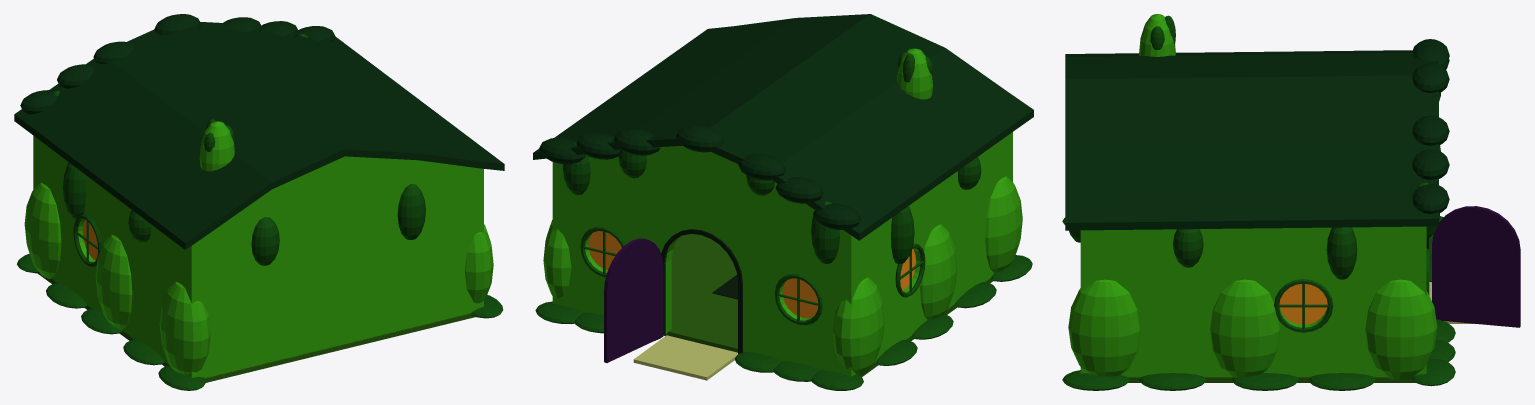
Rendered from slime-visual.obj.
3 renders of one model, left to right at view 1: azimuth 30°, elevation 25°; view 2: azimuth 150°, elevation 25°; view 3: azimuth 270°, elevation 25°, orthographic. The views are drawn at different scales.
Visible parts, largest first — view 1: GooRoof, RearSlimeWall, SideSlimeWall1, WallLobe.005, WallLobe.003, WallLobe.004, Floor, WallLobe.002, EaveDrip_09, GooChimney, EaveDrip_08, EaveDrip_06 (+14 smaller); view 2: GooRoof, FrontSlimeWall, SideSlimeWall1, Floor, Door_Open, WallLobe.003, WallLobe.005, WallLobe.004, WallLobe, DoorFrame, GooChimney, EntryStone_2 (+28 smaller); view 3: GooRoof, SideSlimeWall-1, Door_Open, WallLobe, WallLobe.002, WallLobe.001, SideSlimeWall-1_Pane, EaveDrip_04, FrontSlimeWall, EaveDrip_05, PuddleSide, PuddleSide.002 (+13 smaller).
Part boxes in pixels (bbox=[...]): GooRoof: bbox=[14, 22, 504, 249]; RearSlimeWall: bbox=[186, 156, 483, 378]; SideSlimeWall1: bbox=[40, 141, 185, 364]; WallLobe.005: bbox=[159, 281, 210, 374]; WallLobe.003: bbox=[24, 182, 61, 278]; WallLobe.004: bbox=[95, 234, 132, 330]; Floor: bbox=[37, 273, 475, 382]; WallLobe.002: bbox=[465, 224, 493, 303]; EaveDrip_09: bbox=[397, 184, 425, 239]; GooChimney: bbox=[199, 121, 234, 171]; EaveDrip_08: bbox=[251, 217, 279, 265]; EaveDrip_06: bbox=[63, 162, 85, 218]; GooRoof: bbox=[533, 14, 1033, 240]; FrontSlimeWall: bbox=[552, 145, 858, 376]; SideSlimeWall1: bbox=[858, 136, 1007, 362]; Floor: bbox=[663, 234, 992, 376]; Door_Open: bbox=[604, 238, 663, 362]; WallLobe.003: bbox=[832, 277, 884, 375]; WallLobe.005: bbox=[985, 176, 1022, 272]; WallLobe.004: bbox=[919, 224, 957, 319]; WallLobe: bbox=[543, 220, 571, 298]; DoorFrame: bbox=[661, 229, 742, 353]; GooChimney: bbox=[897, 48, 932, 99]; EntryStone_2: bbox=[633, 351, 718, 380]; GooRoof: bbox=[1065, 50, 1438, 230]; SideSlimeWall-1: bbox=[1093, 226, 1411, 377]; Door_Open: bbox=[1432, 206, 1520, 327]; WallLobe: bbox=[1365, 279, 1437, 380]; WallLobe.002: bbox=[1068, 279, 1140, 376]; WallLobe.001: bbox=[1210, 279, 1280, 377]; SideSlimeWall-1_Pane: bbox=[1279, 284, 1327, 324]; EaveDrip_04: bbox=[1326, 227, 1357, 279]; FrontSlimeWall: bbox=[1411, 226, 1426, 375]; EaveDrip_05: bbox=[1173, 229, 1203, 267]; PuddleSide: bbox=[1308, 373, 1375, 390]; PuddleSide.002: bbox=[1139, 373, 1206, 390].
Bounding box in the file's own units: 27.4 × 17.68 × 29.82.
